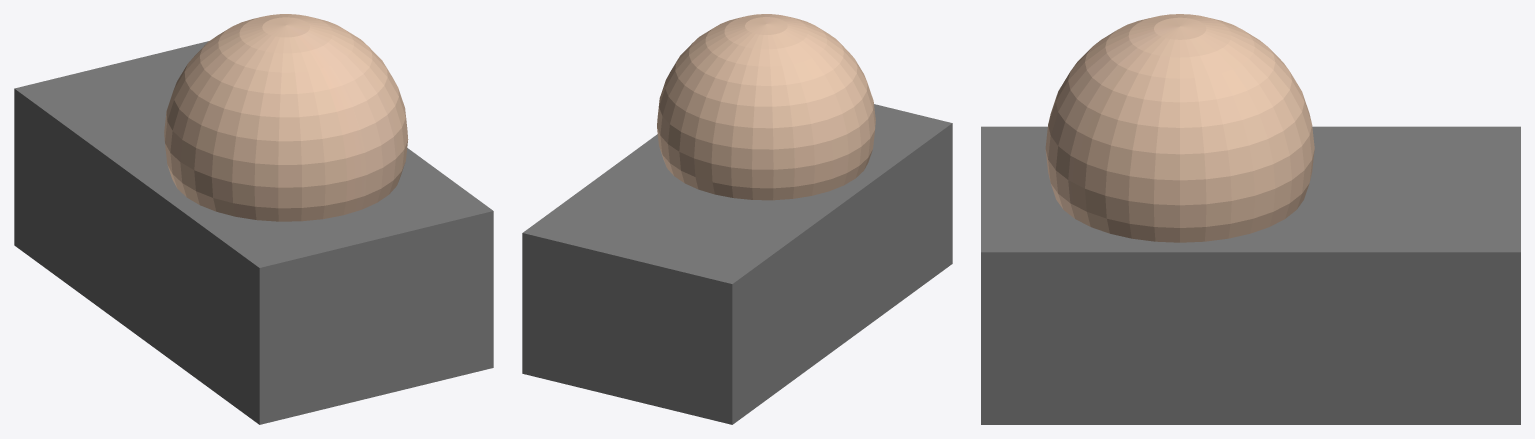
The model's file is enemy_right_foot_sole.obj.
The picture shows the model from 3 angles, left to right: view 1: azimuth 30°, elevation 25°; view 2: azimuth 150°, elevation 25°; view 3: azimuth 270°, elevation 25°; orthographic projection. The views are drawn at different scales.
Parts seen in each view (by area): view 1: 立方體.016, 球體.009_球體.004; view 2: 立方體.016, 球體.009_球體.004; view 3: 立方體.016, 球體.009_球體.004.
Boxes of the visible parts, x1,y1,x2,y2 form: 立方體.016: [14, 41, 493, 424]; 球體.009_球體.004: [164, 14, 408, 221]; 立方體.016: [522, 104, 952, 424]; 球體.009_球體.004: [657, 14, 875, 200]; 立方體.016: [981, 126, 1520, 424]; 球體.009_球體.004: [1045, 14, 1314, 242].
Size of the model in its own units: 0.6413 by 0.7985 by 1.16.
Materials: 2 (2 with a texture image).
